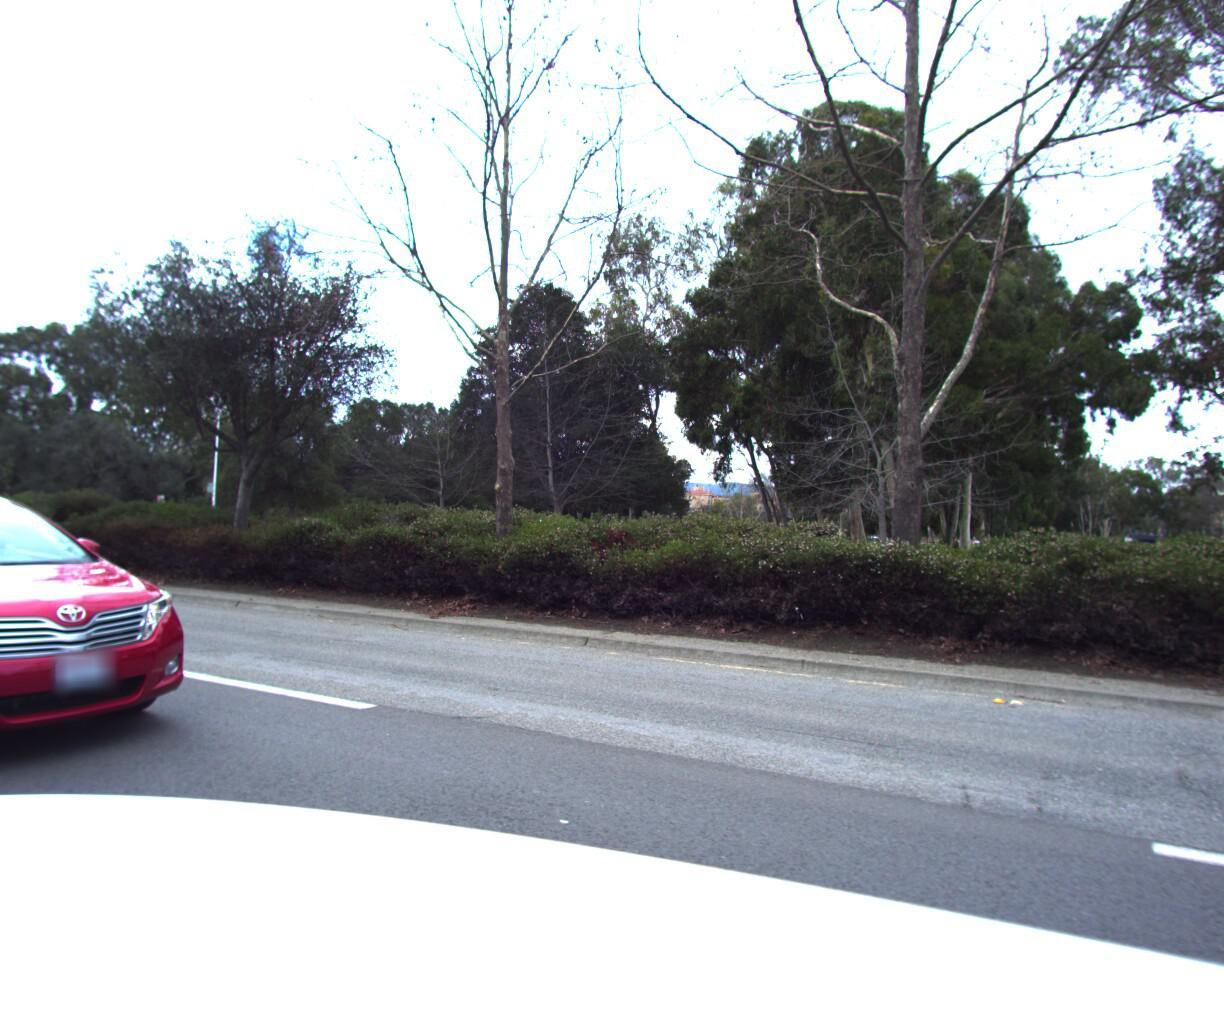car: (0, 470, 230, 825)
